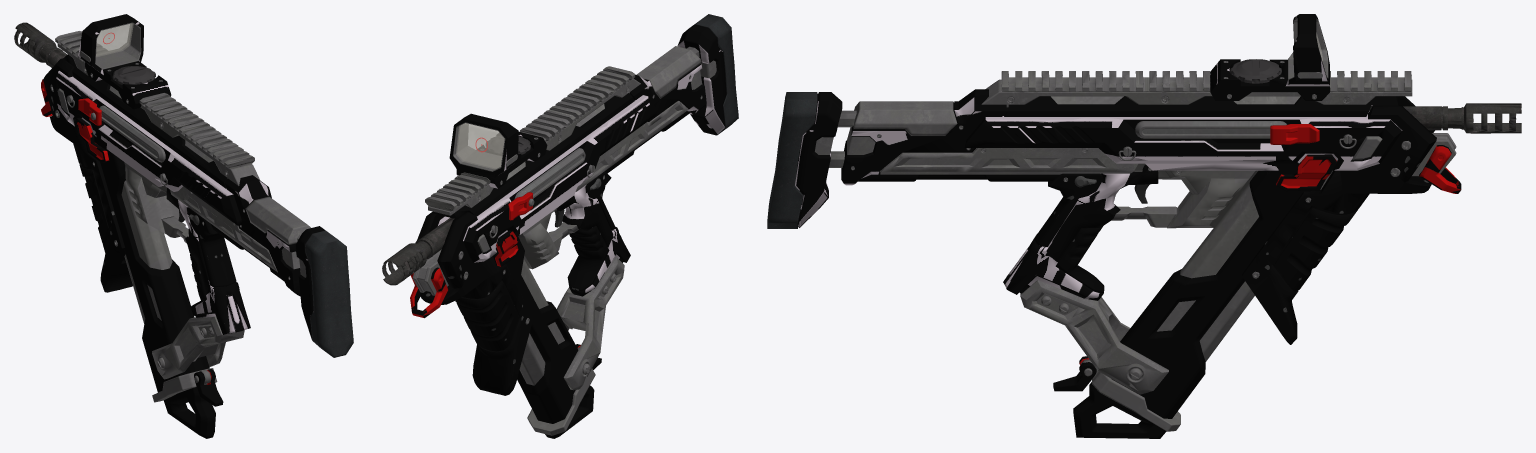
File: SM_Weapon_SMG.glb
The picture shows the model from 3 angles, left to right: view 1: azimuth 30°, elevation 25°; view 2: azimuth 150°, elevation 25°; view 3: azimuth 270°, elevation 25°; orthographic projection. The views are drawn at different scales.
Visible parts, largest first — view 1: Plane.005, Plane, Plane.001, Plane.024, Plane.003, Plane.020, Plane.012, Plane.021, Plane.010, Plane.027, Plane.008, Plane.033 (+17 smaller); view 2: Plane.003, Plane, Plane.005, Plane.001, Plane.020, Plane.012, Plane.013, Plane.021, Plane.010, Cylinder.010, Plane.022, Plane.034 (+17 smaller); view 3: Plane, Plane.003, Plane.005, Plane.001, Plane.012, Plane.025, Plane.020, Plane.010, Plane.027, Plane.021, Plane.024, Plane.008 (+17 smaller).
Boxes of the visible parts, <box> form: Plane.005: <box>94,140,209,392</box>; Plane: <box>52,70,271,225</box>; Plane.001: <box>63,54,300,296</box>; Plane.024: <box>305,230,353,357</box>; Plane.003: <box>43,58,132,292</box>; Plane.020: <box>55,31,254,169</box>; Plane.012: <box>152,316,244,379</box>; Plane.021: <box>78,14,171,109</box>; Plane.010: <box>166,187,250,334</box>; Plane.027: <box>121,180,172,323</box>; Plane.008: <box>124,162,179,233</box>; Plane.033: <box>188,208,236,286</box>; Plane.003: <box>417,211,533,395</box>; Plane: <box>438,95,657,262</box>; Plane.005: <box>493,236,578,423</box>; Plane.001: <box>433,64,706,219</box>; Plane.020: <box>425,66,635,211</box>; Plane.012: <box>556,257,624,390</box>; Plane.013: <box>677,24,726,135</box>; Plane.021: <box>449,113,547,188</box>; Plane.010: <box>556,184,630,296</box>; Cylinder.010: <box>382,217,454,285</box>; Plane.022: <box>456,123,504,169</box>; Plane.034: <box>567,225,609,291</box>; Plane: <box>964,105,1402,170</box>; Plane.003: <box>1242,96,1436,344</box>; Plane.005: <box>1112,170,1311,418</box>; Plane.001: <box>841,89,1398,185</box>; Plane.012: <box>1020,275,1168,394</box>; Plane.025: <box>880,148,1137,174</box>; Plane.020: <box>1001,71,1411,92</box>; Plane.010: <box>1006,165,1158,300</box>; Plane.027: <box>1157,170,1332,361</box>; Plane.021: <box>1210,14,1329,100</box>; Plane.024: <box>767,92,817,228</box>; Plane.008: <box>1134,163,1257,228</box>.
Bounding box in the file's own units: 0.065 × 0.3401 × 0.5631.
11 materials, 11 textured.
